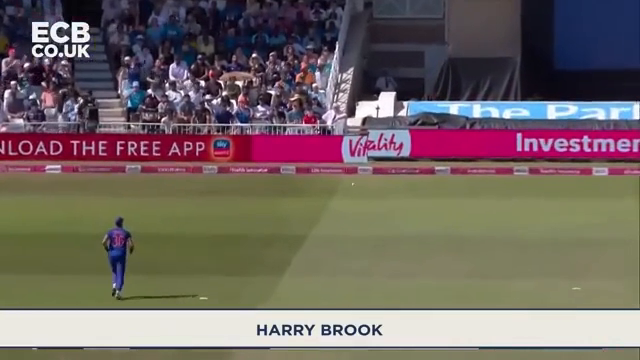fielder: (101, 216, 141, 300)
